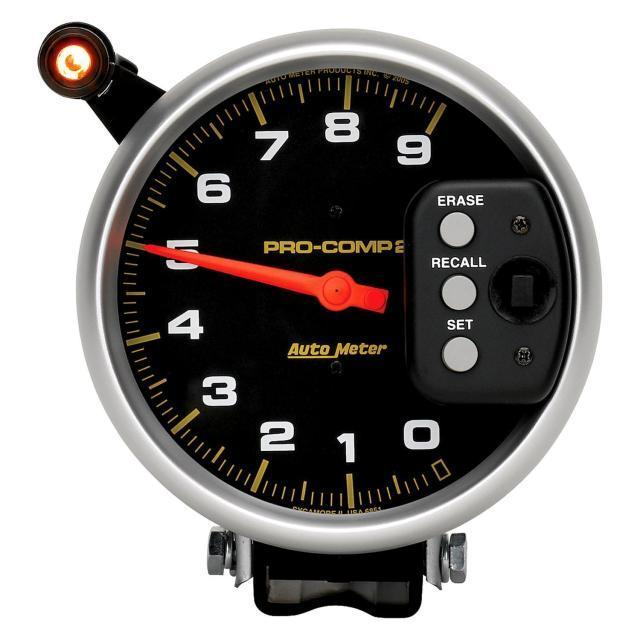Needle_Tip: (116, 228, 194, 270)
Needle_base: (302, 261, 368, 321)
max_value: (386, 113, 444, 188)
min_value: (387, 408, 446, 472)
